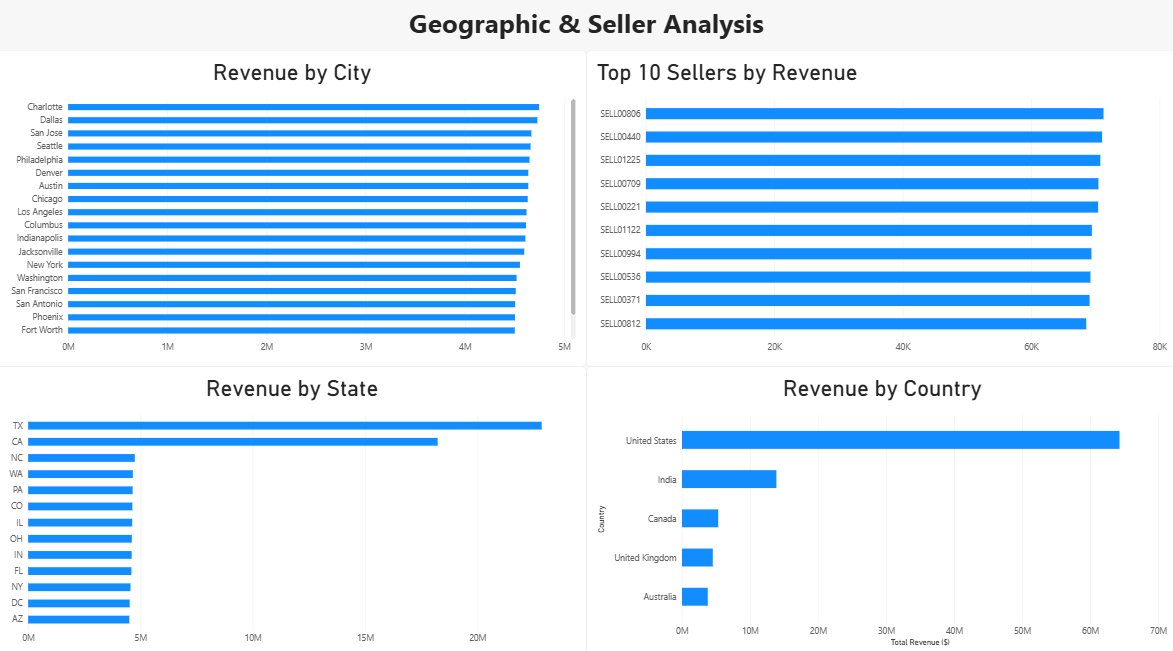

The page's visual inventory and layout, read from the dashboard file:
{"tool":"powerbi","page":{"name":"Seller","canvas":[1920,1080],"ordinal":2},"visuals":[{"type":"clusteredBarChart","title":"Revenue by State","fields":{"Category":["public amazon_sales.state"],"Y":["Sum(public amazon_sales.total_amount)"]},"box":[0,607.5,958.8,473.3],"z":0},{"type":"clusteredBarChart","title":"Revenue by City","fields":{"Category":["public amazon_sales.city"],"Y":["Sum(public amazon_sales.total_amount)"]},"box":[0,92.7,958.8,514.8],"z":1000},{"type":"clusteredBarChart","title":"\tTop 10 Sellers by Revenue","fields":{"Category":["public amazon_sales.seller_id"],"Y":["Sum(public amazon_sales.total_amount)"]},"box":[958.8,92.7,961.3,514.8],"z":2000},{"type":"clusteredBarChart","title":"\tRevenue by Country","fields":{"Category":["public amazon_sales.country"],"Y":["Sum(public amazon_sales.total_amount)"]},"box":[958.8,607.5,961.3,473.3],"z":3000},{"type":"textbox","box":[597.8,19.5,722.2,300.1],"z":4000}]}

Visuals, with their boxes in screenshot pixels (x1, y1, x2, y2), scaled from the page's 1920x1080 canvas onto the 1173x651 screenshot:
"Revenue by State" clusteredBarChart: crop(0, 366, 586, 650)
"Revenue by City" clusteredBarChart: crop(0, 56, 586, 366)
"	Top 10 Sellers by Revenue" clusteredBarChart: crop(586, 56, 1172, 366)
"	Revenue by Country" clusteredBarChart: crop(586, 366, 1172, 650)
textbox: crop(365, 12, 806, 193)
